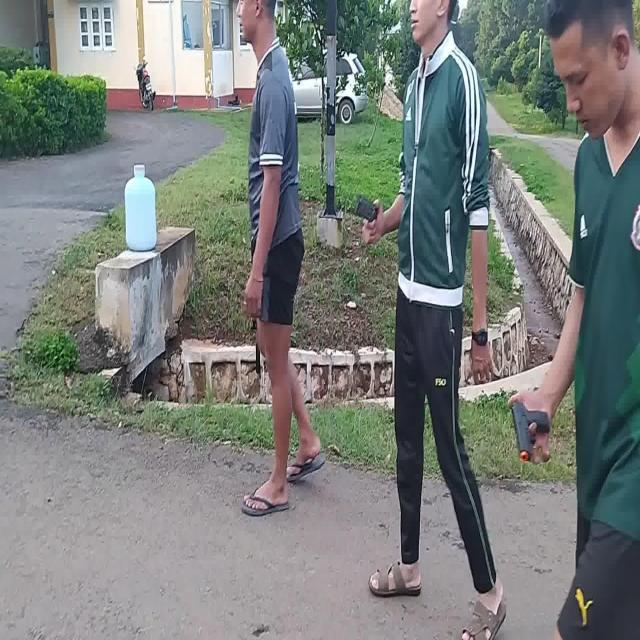gun: (512, 402, 550, 460), (251, 241, 261, 374)
